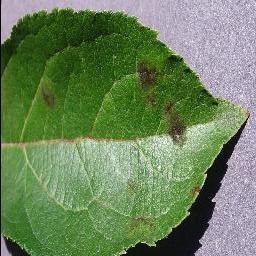apple healthy: (0, 6, 249, 255)
